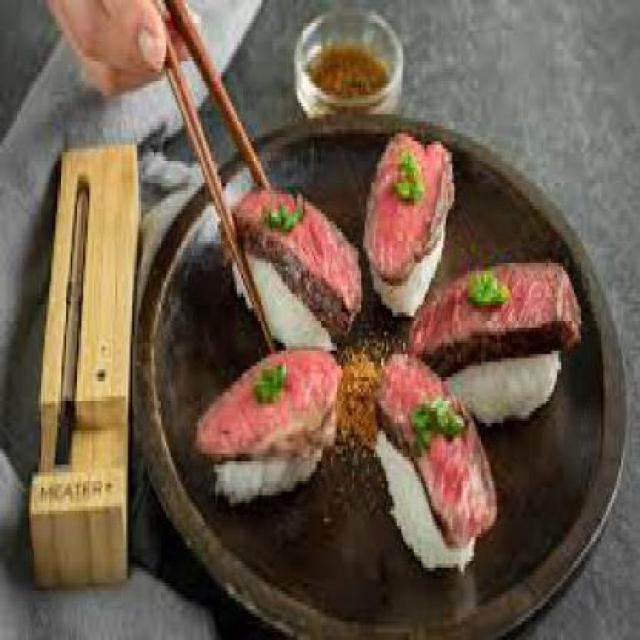steak: (224, 156, 362, 298), (375, 347, 480, 522), (194, 339, 335, 435), (373, 125, 438, 244), (426, 270, 574, 316)
sushi: (188, 99, 580, 579)
